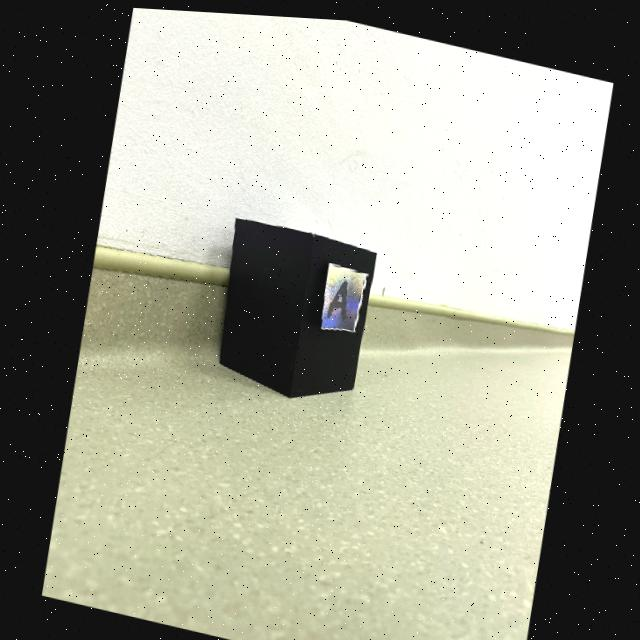A: (326, 276, 347, 317)
